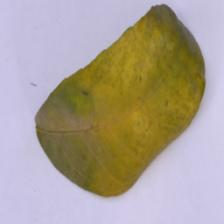greening: (62, 12, 210, 189)
